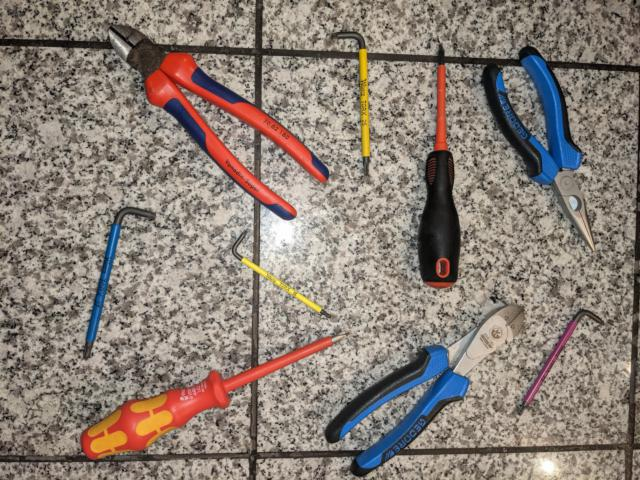Inbusschlüssel: (80, 204, 158, 363), (516, 304, 608, 419), (227, 227, 335, 320), (328, 28, 375, 180)
Schraubendreher: (77, 328, 354, 463), (414, 38, 464, 291)
Seitenschneider: (106, 19, 332, 221), (320, 299, 530, 480)
Zange: (480, 43, 601, 256)
